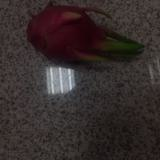pitaya: (28, 5, 143, 64)
